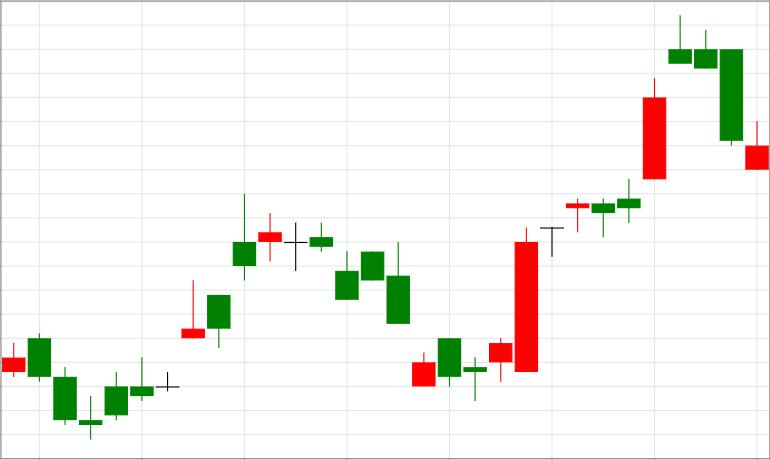shooting_star_fall: (79, 194, 256, 439)
